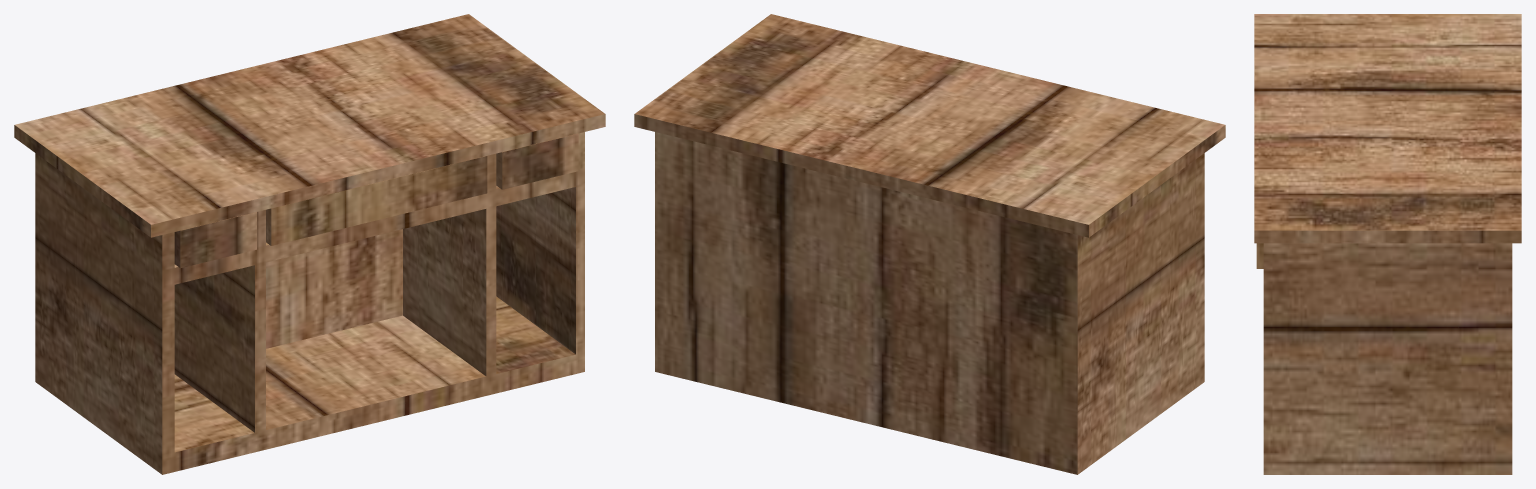
Rendered from desk_v2.glb.
The picture shows the model from 3 angles, left to right: view 1: azimuth 30°, elevation 25°; view 2: azimuth 150°, elevation 25°; view 3: azimuth 270°, elevation 25°; orthographic projection. The views are drawn at different scales.
Visible parts, largest first — view 1: Cube; view 2: Cube; view 3: Cube.
Part boxes in pixels (x1,y1,x2,y2): Cube: (14,14,605,474); Cube: (634,14,1225,474); Cube: (1254,14,1521,474).
Bounding box in the file's own units: 1.06 × 0.5745 × 0.5526.
Materials: 1 (1 with a texture image).
